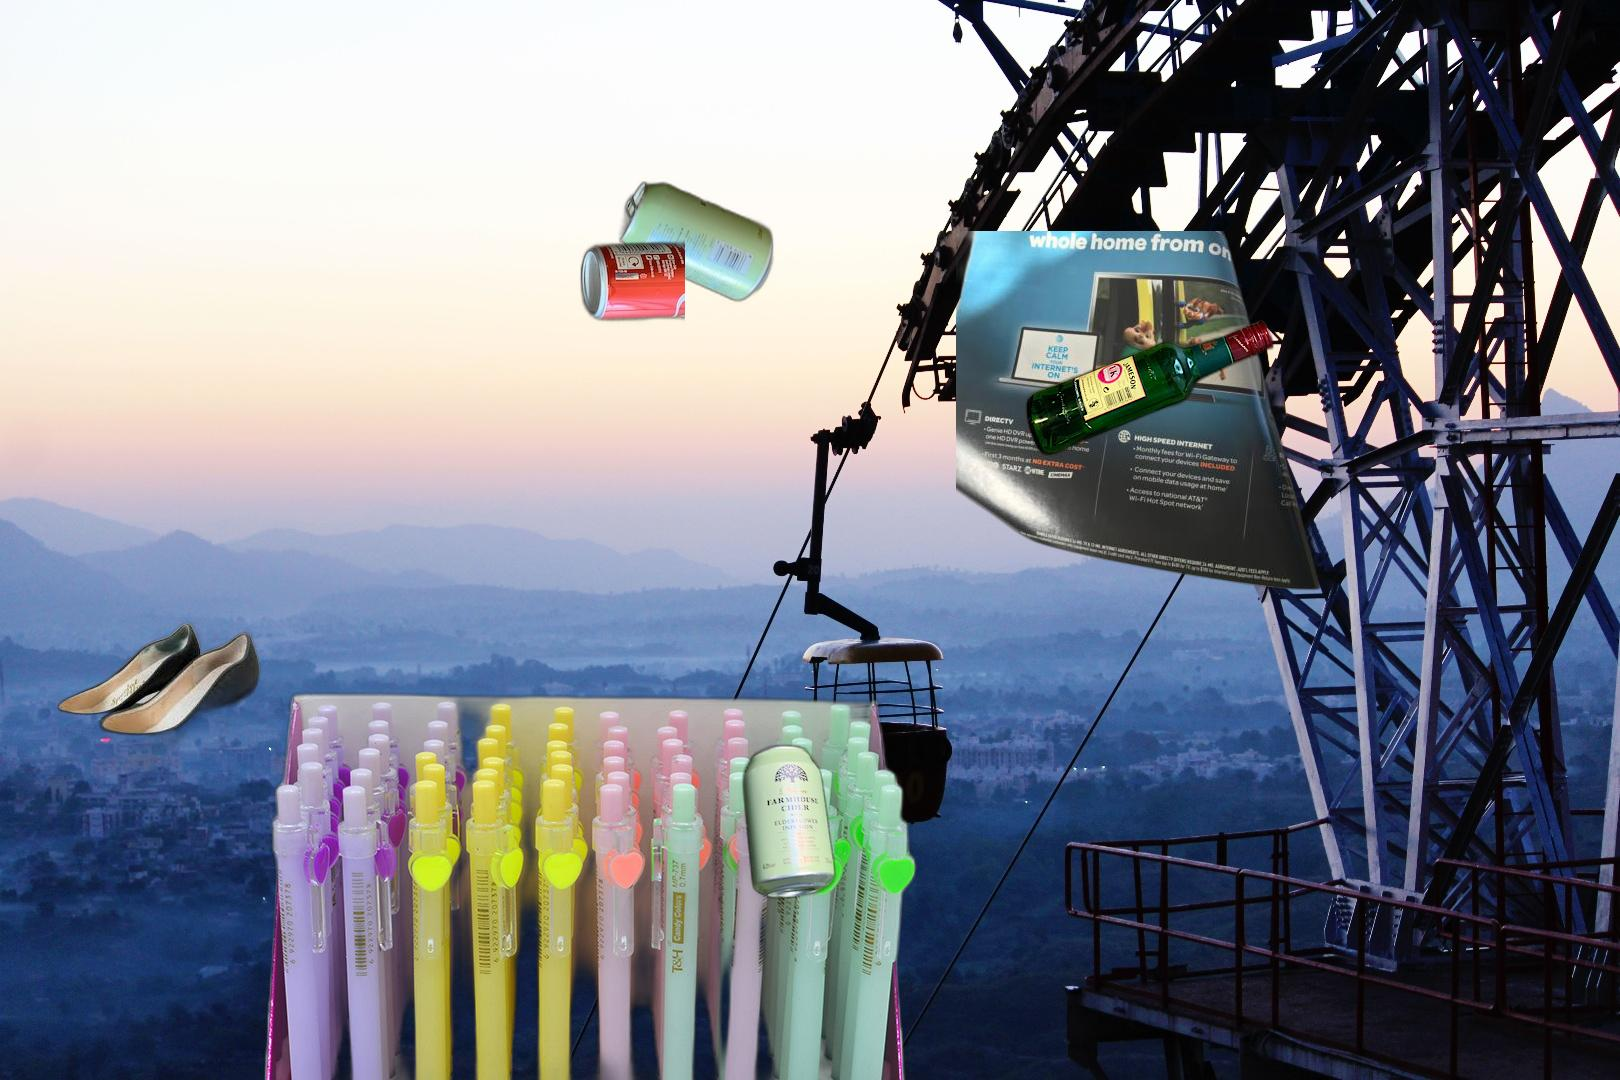glass: (1022, 315, 1278, 460)
metal-cans: (738, 739, 1045, 904), (616, 176, 777, 307), (576, 236, 685, 327)
paper: (956, 231, 1323, 592)
penholder: (256, 687, 923, 1080)
shoes: (17, 614, 263, 793)
